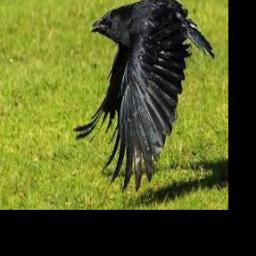Crow: (73, 0, 215, 192)
